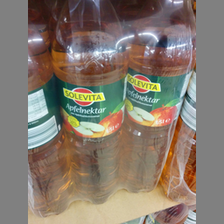juice: (50, 1, 125, 205), (124, 1, 196, 194)
